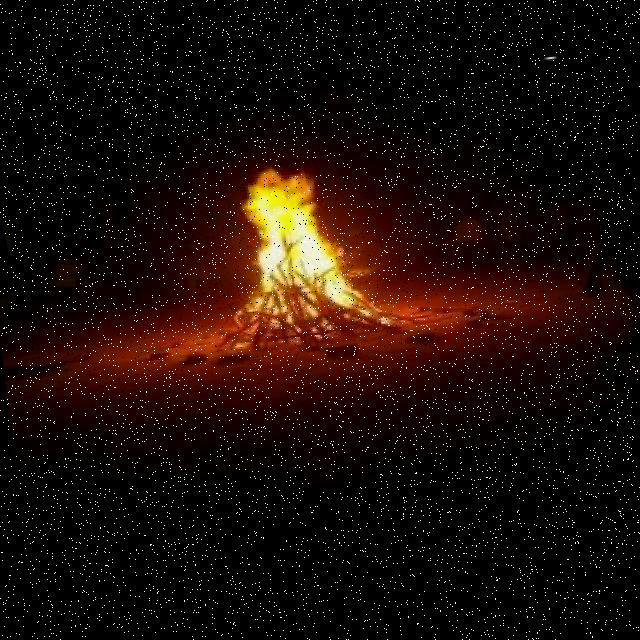Fire: (221, 148, 374, 333)
